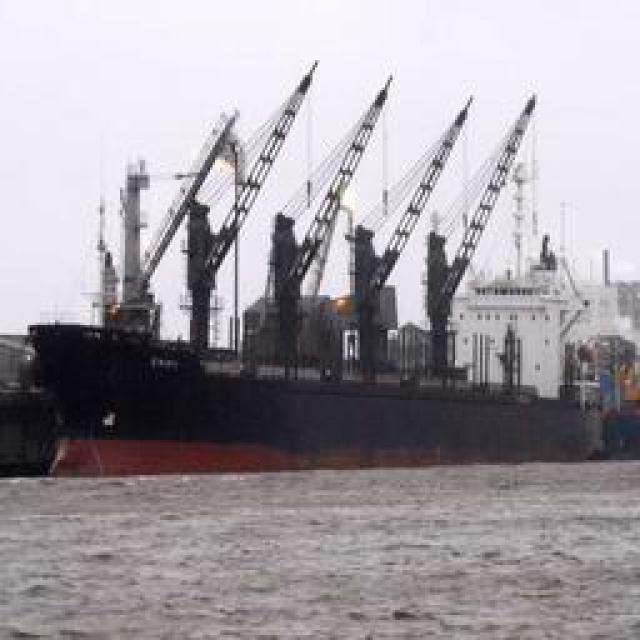Ship: (30, 76, 639, 485)
